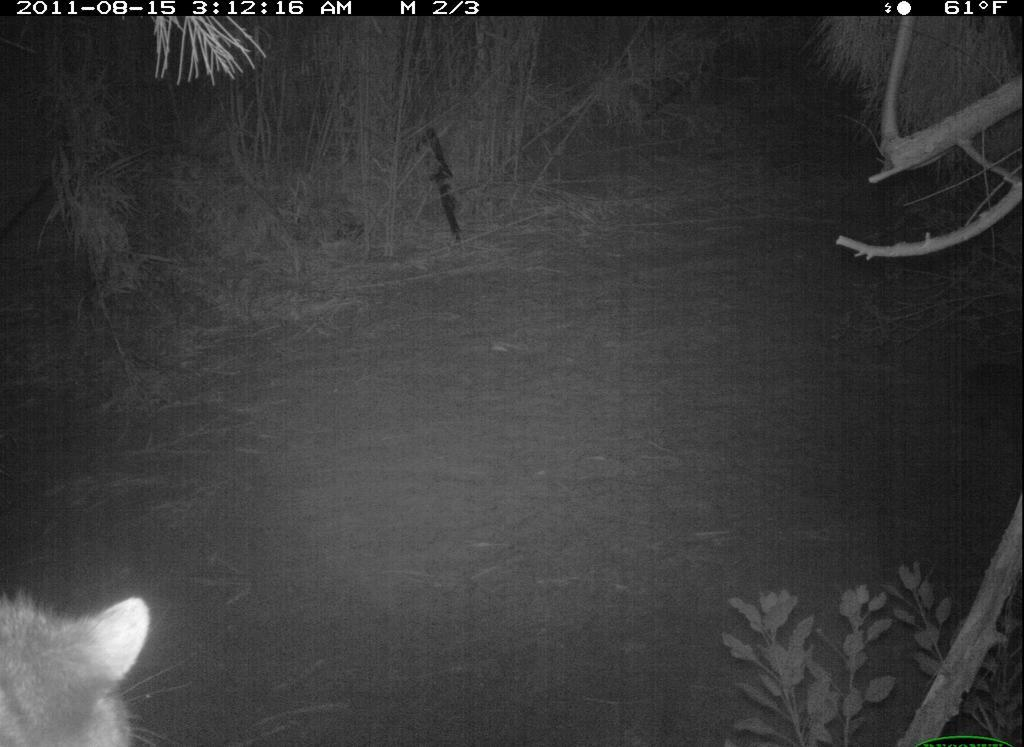raccoon: (4, 570, 171, 744)
